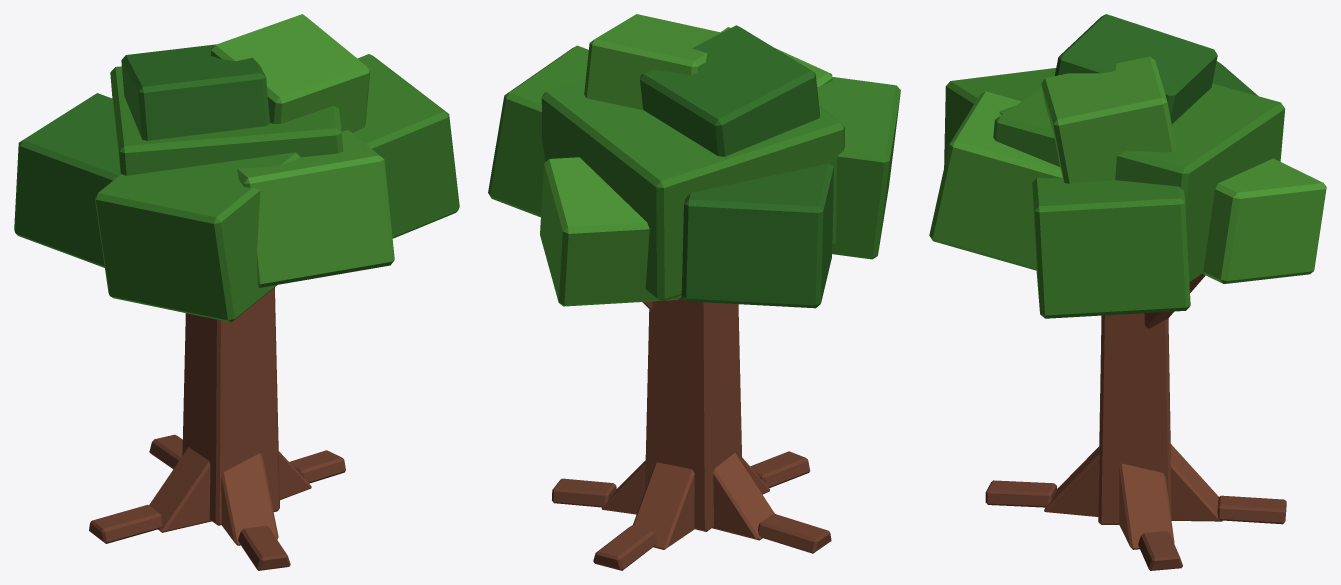
The model's file is oak_small.glb.
The picture shows the model from 3 angles, left to right: view 1: azimuth 30°, elevation 25°; view 2: azimuth 150°, elevation 25°; view 3: azimuth 270°, elevation 25°; orthographic projection.
Visible parts, largest first — view 1: Grass__3A8028, Grass__489430, Grass__2E6C24, Wood__7A4630, Wood__6A3C2A; view 2: Grass__3A8028, Grass__2E6C24, Wood__7A4630, Grass__489430, Wood__6A3C2A; view 3: Grass__3A8028, Grass__489430, Wood__7A4630, Grass__2E6C24, Wood__6A3C2A.
Boxes of the visible parts, left/top/right/bottom form: Grass__3A8028: left=94, top=54, right=459, bottom=322; Grass__489430: left=210, top=14, right=394, bottom=287; Grass__2E6C24: left=14, top=44, right=269, bottom=267; Wood__7A4630: left=149, top=287, right=311, bottom=545; Wood__6A3C2A: left=89, top=434, right=345, bottom=570; Grass__3A8028: left=488, top=45, right=900, bottom=301; Grass__2E6C24: left=640, top=25, right=833, bottom=308; Wood__7A4630: left=601, top=297, right=774, bottom=549; Grass__489430: left=540, top=14, right=832, bottom=306; Wood__6A3C2A: left=552, top=451, right=831, bottom=570; Grass__3A8028: left=944, top=68, right=1285, bottom=318; Grass__489430: left=929, top=56, right=1326, bottom=283; Wood__7A4630: left=1044, top=273, right=1222, bottom=549; Grass__2E6C24: left=1054, top=14, right=1257, bottom=124; Wood__6A3C2A: left=985, top=480, right=1286, bottom=570.
Bounding box in the file's own units: 16.49 × 20.6 × 16.28.
